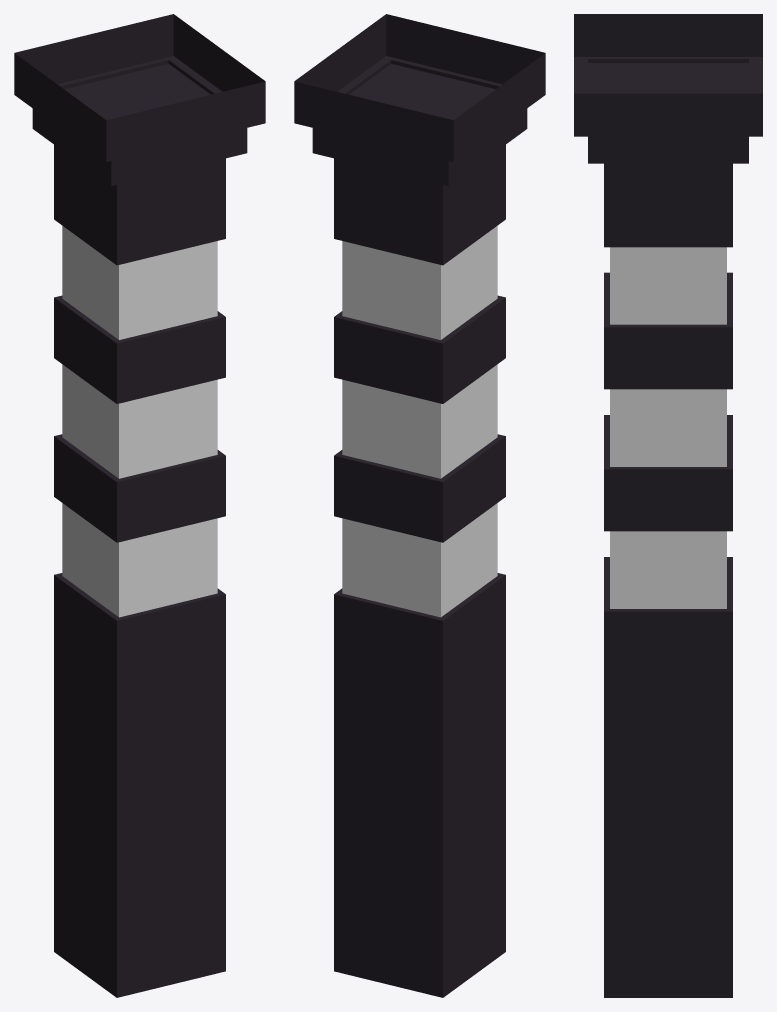
File: Pillar.fbx
3 views of the same model, side by side, from view 1: azimuth 30°, elevation 25°; view 2: azimuth 150°, elevation 25°; view 3: azimuth 270°, elevation 25° (orthographic). The views are drawn at different scales.
Visible parts, largest first — view 1: Cube.002, Cube.004; view 2: Cube.002, Cube.004; view 3: Cube.002, Cube.004.
Part boxes in pixels (left/top/right/bottom): Cube.002: left=14, top=14, right=265, bottom=997; Cube.004: left=62, top=226, right=217, bottom=617; Cube.002: left=294, top=14, right=545, bottom=997; Cube.004: left=342, top=226, right=497, bottom=617; Cube.002: left=574, top=14, right=762, bottom=997; Cube.004: left=610, top=247, right=726, bottom=608.
Bounding box in the file's own units: 7914 × 42434 × 7914.
